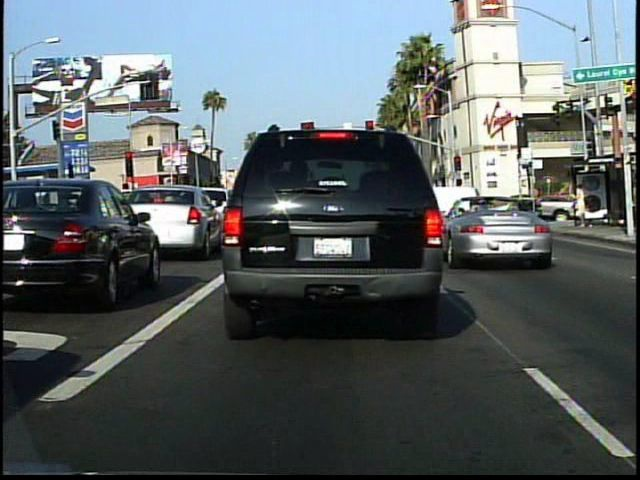person: (569, 181, 594, 233)
